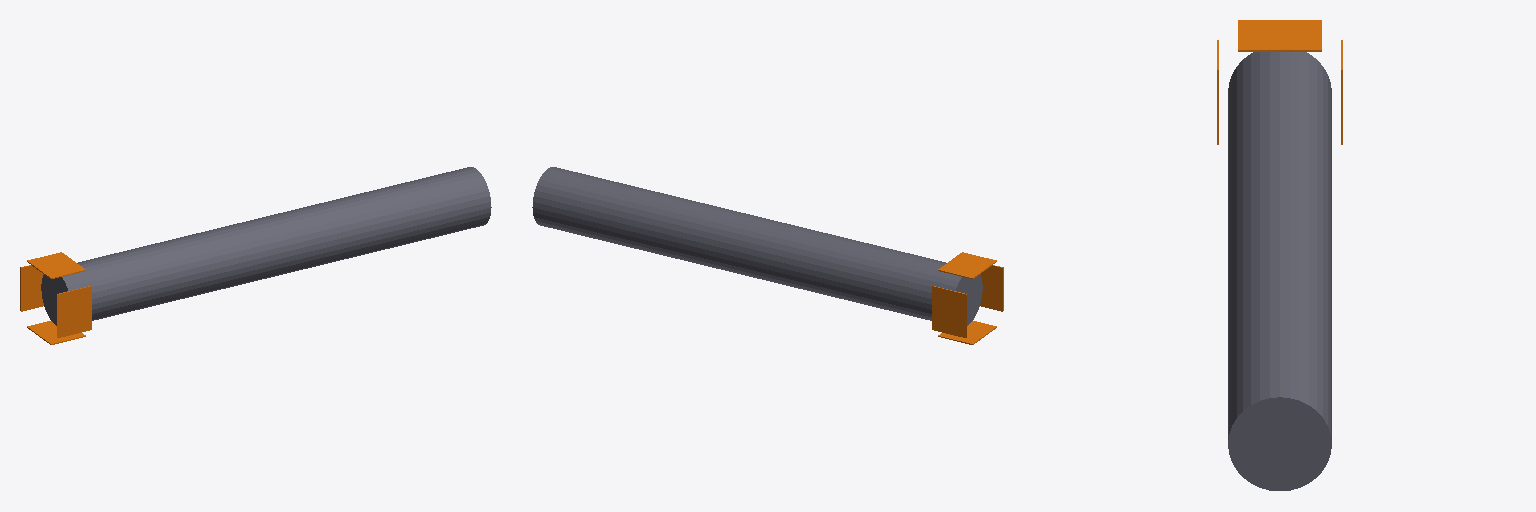
URDF robot description (glider_phase0):
<?xml version="1.0"?>
<!-- 占位滑翔模型 Phase 0: 圆柱弹体 + 4 片十字尾舵 (revolute ±20°)
     真实模型到位后整体替换; 参数: 质量 10kg, 长 1.2m, 直径 0.15m, 质心位于 link 原点 -->
<robot name="glider_phase0">
  <material name="body_gray"><color rgba="0.45 0.45 0.5 1"/></material>
  <material name="fin_orange"><color rgba="0.9 0.5 0.1 1"/></material>

  <link name="body">
    <inertial>
      <origin xyz="0 0 0" rpy="0 0 0"/>
      <mass value="10.0"/>
      <!-- 细圆柱近似: Ixx(滚转)=1/2 m r^2, Iyy=Izz=m(L^2/12+r^2/4) -->
      <inertia ixx="0.028" iyy="1.214" izz="1.214" ixy="0" ixz="0" iyz="0"/>
    </inertial>
    <visual>
      <origin xyz="0 0 0" rpy="0 1.5708 0"/>
      <geometry><cylinder radius="0.075" length="1.2"/></geometry>
      <material name="body_gray"/>
    </visual>
    <collision>
      <origin xyz="0 0 0" rpy="0 1.5708 0"/>
      <geometry><cylinder radius="0.075" length="1.2"/></geometry>
    </collision>
  </link>

  <!-- 水平对 (差动=滚转 da, 同向=俯仰 de): 铰链轴 y -->
  <link name="fin_up">
    <inertial><mass value="0.05"/><inertia ixx="1e-5" iyy="1e-4" izz="1e-4" ixy="0" ixz="0" iyz="0"/></inertial>
    <visual><origin xyz="-0.05 0 0.06"/><geometry><box size="0.10 0.12 0.003"/></geometry><material name="fin_orange"/></visual>
  </link>
  <joint name="j_fin_up" type="revolute">
    <parent link="body"/><child link="fin_up"/>
    <origin xyz="-0.55 0 0.03" rpy="0 0 0"/>
    <axis xyz="0 1 0"/><limit lower="-0.35" upper="0.35" effort="10" velocity="5"/>
  </joint>
  <link name="fin_down">
    <inertial><mass value="0.05"/><inertia ixx="1e-5" iyy="1e-4" izz="1e-4" ixy="0" ixz="0" iyz="0"/></inertial>
    <visual><origin xyz="-0.05 0 -0.06"/><geometry><box size="0.10 0.12 0.003"/></geometry><material name="fin_orange"/></visual>
  </link>
  <joint name="j_fin_down" type="revolute">
    <parent link="body"/><child link="fin_down"/>
    <origin xyz="-0.55 0 -0.03" rpy="0 0 0"/>
    <axis xyz="0 1 0"/><limit lower="-0.35" upper="0.35" effort="10" velocity="5"/>
  </joint>

  <!-- 垂直对 (同向=偏航 dr): 铰链轴 z -->
  <link name="fin_left">
    <inertial><mass value="0.05"/><inertia ixx="1e-5" iyy="1e-4" izz="1e-4" ixy="0" ixz="0" iyz="0"/></inertial>
    <visual><origin xyz="-0.05 -0.06 0"/><geometry><box size="0.10 0.003 0.12"/></geometry><material name="fin_orange"/></visual>
  </link>
  <joint name="j_fin_left" type="revolute">
    <parent link="body"/><child link="fin_left"/>
    <origin xyz="-0.55 -0.03 0" rpy="0 0 0"/>
    <axis xyz="0 0 1"/><limit lower="-0.35" upper="0.35" effort="10" velocity="5"/>
  </joint>
  <link name="fin_right">
    <inertial><mass value="0.05"/><inertia ixx="1e-5" iyy="1e-4" izz="1e-4" ixy="0" ixz="0" iyz="0"/></inertial>
    <visual><origin xyz="-0.05 0.06 0"/><geometry><box size="0.10 0.003 0.12"/></geometry><material name="fin_orange"/></visual>
  </link>
  <joint name="j_fin_right" type="revolute">
    <parent link="body"/><child link="fin_right"/>
    <origin xyz="-0.55 0.03 0" rpy="0 0 0"/>
    <axis xyz="0 0 1"/><limit lower="-0.35" upper="0.35" effort="10" velocity="5"/>
  </joint>
</robot>

--- Facts derived from the render (not from the file) ---
3 views of the same robot in one strip: view 1: azimuth 30°, elevation 25°; view 2: azimuth 150°, elevation 25°; view 3: azimuth 270°, elevation 25° (orthographic).
Robot: glider_phase0 — 5 links, 4 joints (4 revolute); root link body; default pose: every joint at zero.
Visible links, largest first — view 1: body, fin_left, fin_right, fin_up, fin_down; view 2: body, fin_right, fin_left, fin_up, fin_down; view 3: body, fin_up.
Boxes of the visible links, bbox=[...] form: body: bbox=[41, 167, 491, 325]; fin_left: bbox=[57, 286, 91, 337]; fin_right: bbox=[20, 265, 43, 311]; fin_up: bbox=[27, 252, 85, 278]; fin_down: bbox=[27, 321, 85, 344]; body: bbox=[532, 167, 982, 325]; fin_right: bbox=[932, 286, 966, 337]; fin_left: bbox=[980, 265, 1003, 311]; fin_up: bbox=[938, 252, 996, 278]; fin_down: bbox=[938, 321, 996, 344]; body: bbox=[1228, 52, 1331, 490]; fin_up: bbox=[1238, 20, 1321, 51].
Size in the robot's own frame: 1.25 by 0.183 by 0.183 metres.
Geometry: primitives only (box / cylinder / sphere), no mesh files.
